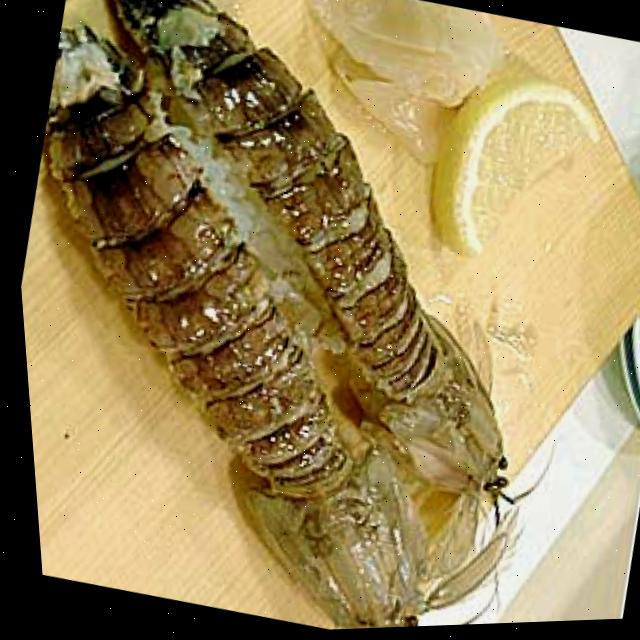寿司卷物: (0, 0, 632, 640)
